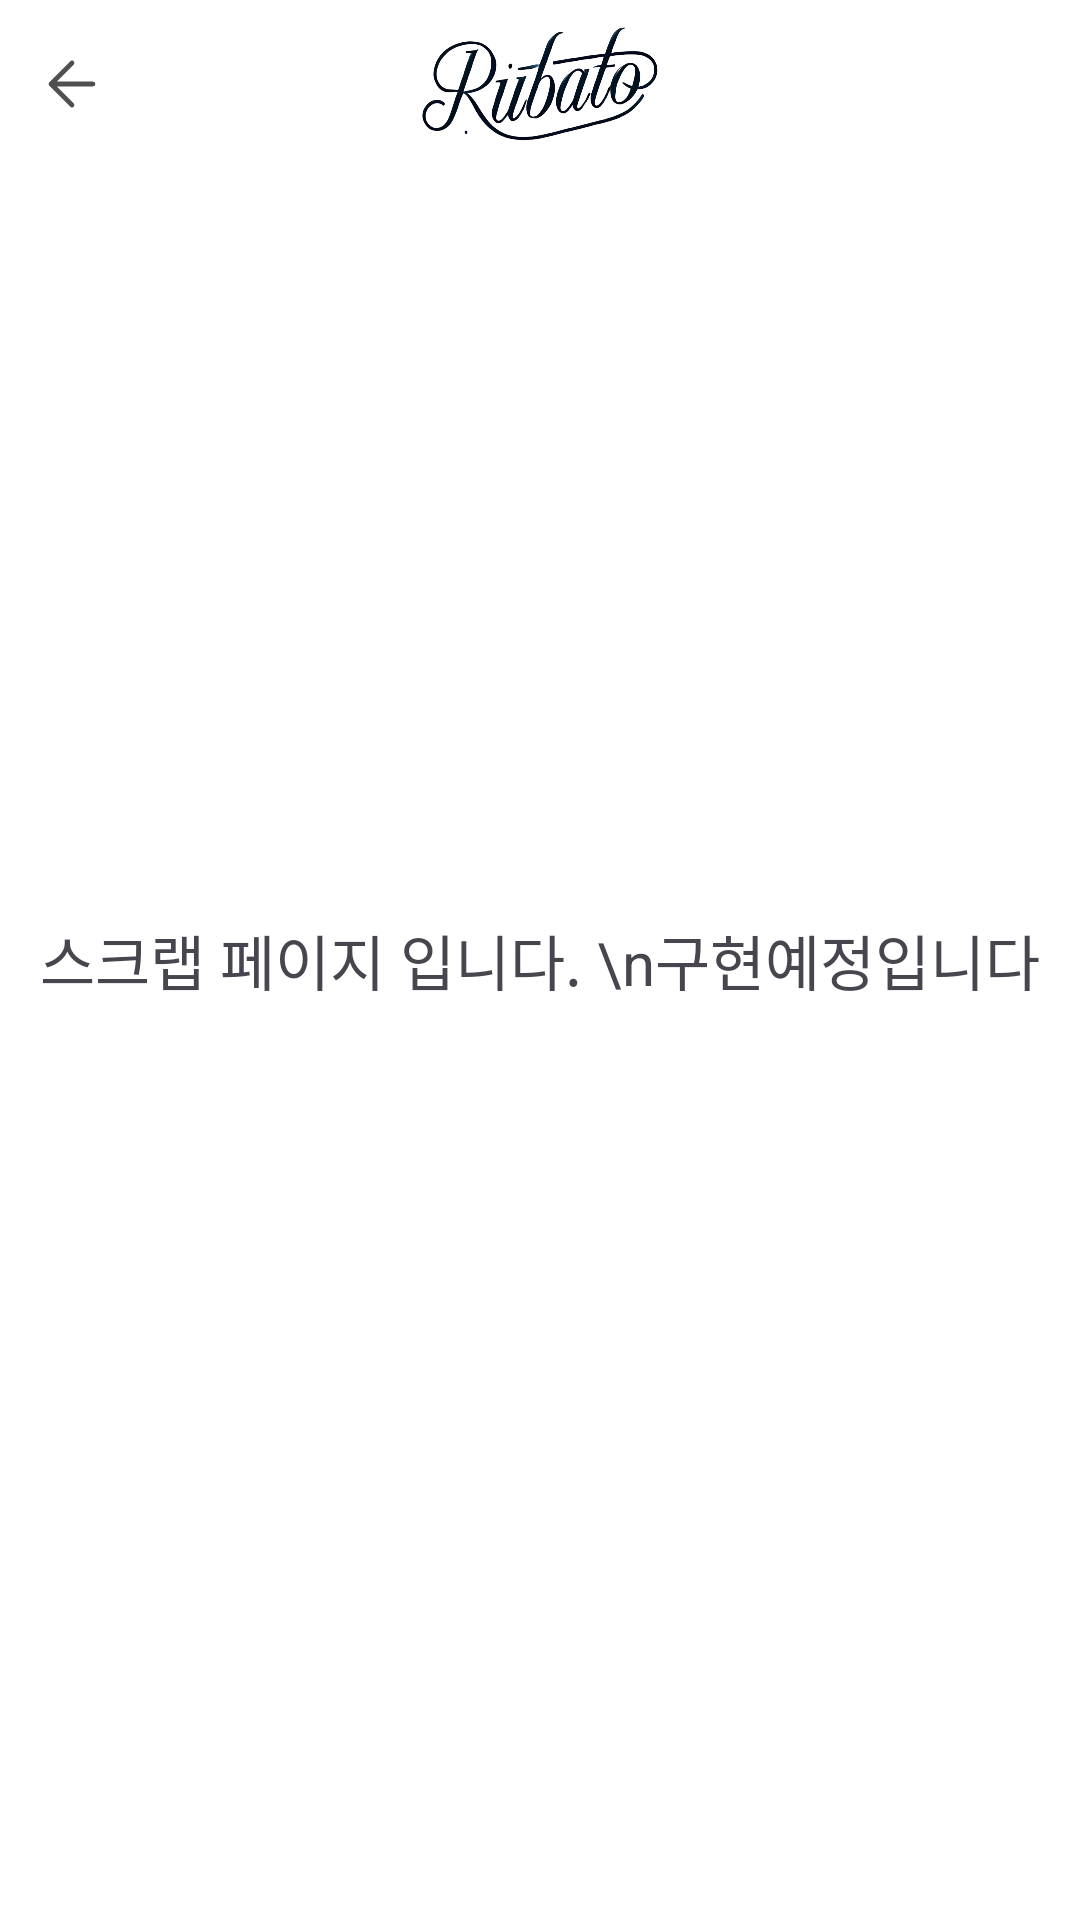

Where icons sit on this 1080×1920 app screen, as (x1, y1, x2, y2):
back arrow: (48, 60, 96, 108)
